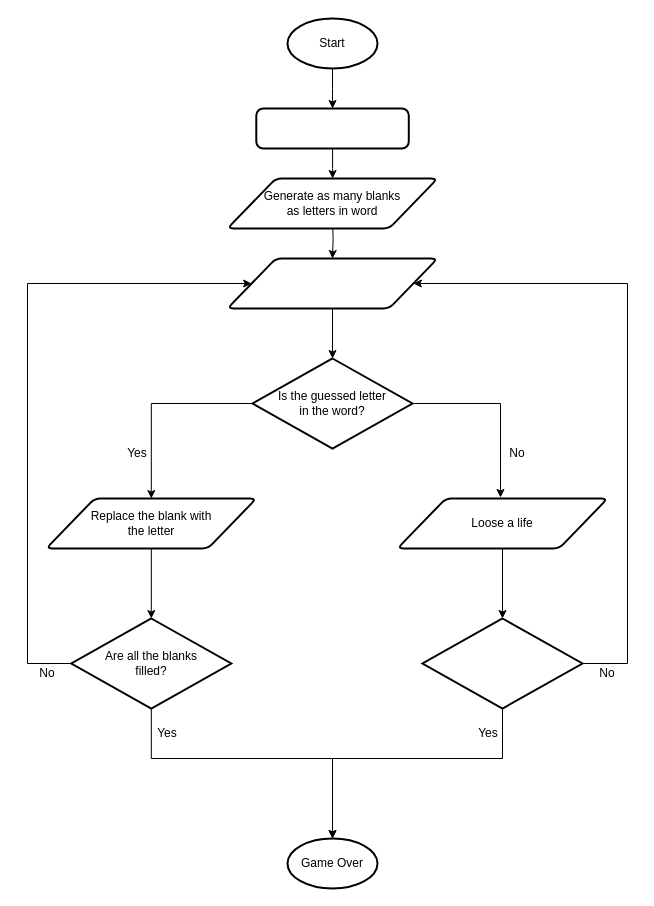
Image size: 654x906. Some labels were removed from this diagram. The centre of each missing label's shape, as x and y in pixels:
"Ask the user to guess a letter" goes at point (332, 283).
"Generate a random word" goes at point (332, 128).
"Have they run out of lives" goes at point (502, 663).
